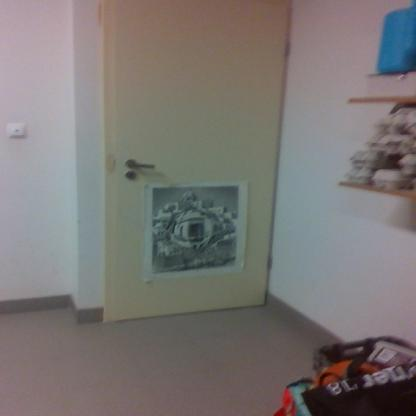closed: (88, 3, 299, 327)
